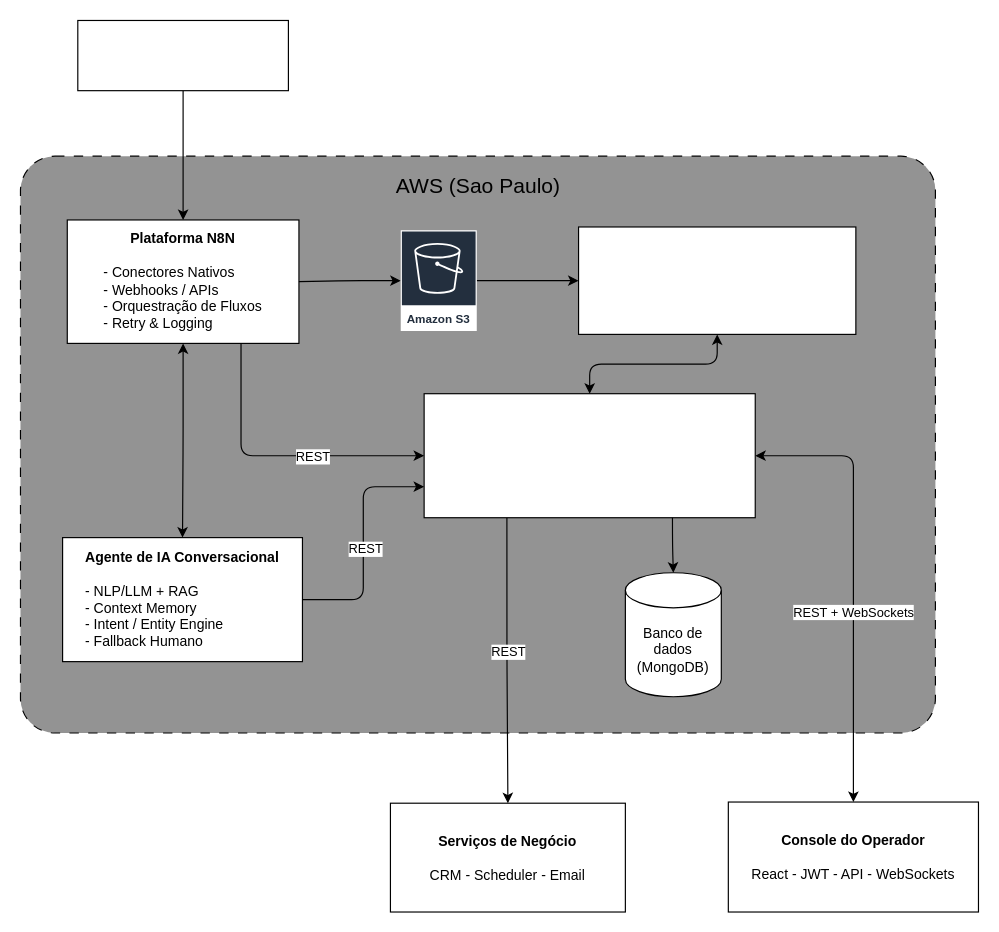
The diagram is 999 pixels wide and 932 high, and some of its shapes have lost their labels. The centre of each missing label's shape, as x and y in pixels:
API Gateway Autenticação, regras e acesso a dados: [589,455]
Serviço de OCR - AWS Textract / Comprehend - EventBridge / SQS/SNS / Lambda: [716,280]
Usuário Final WhatsApp - Web - Telegram: [182,55]
